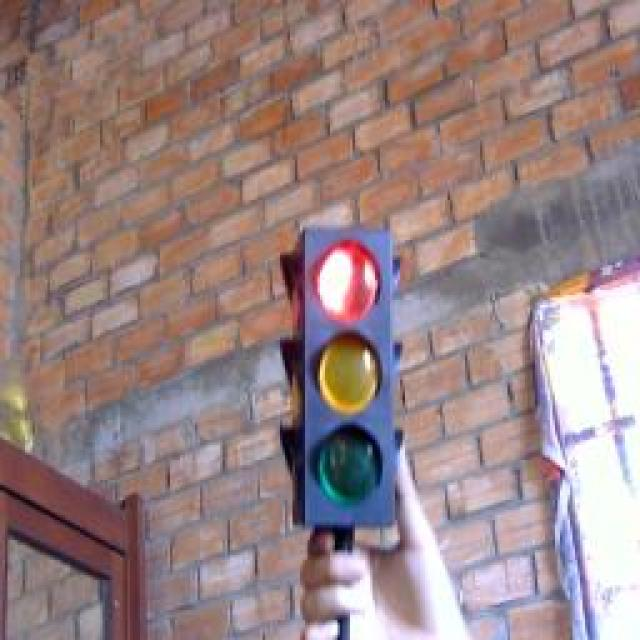-: (308, 229, 386, 331)
